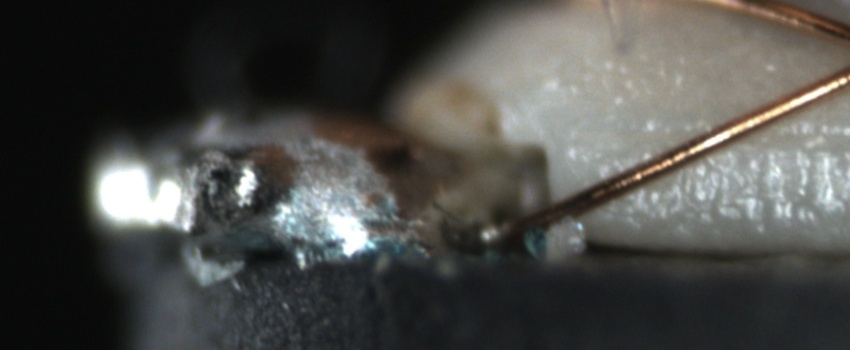DL: (621, 107, 850, 171)
